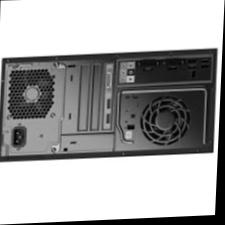pc: (0, 46, 223, 166)
